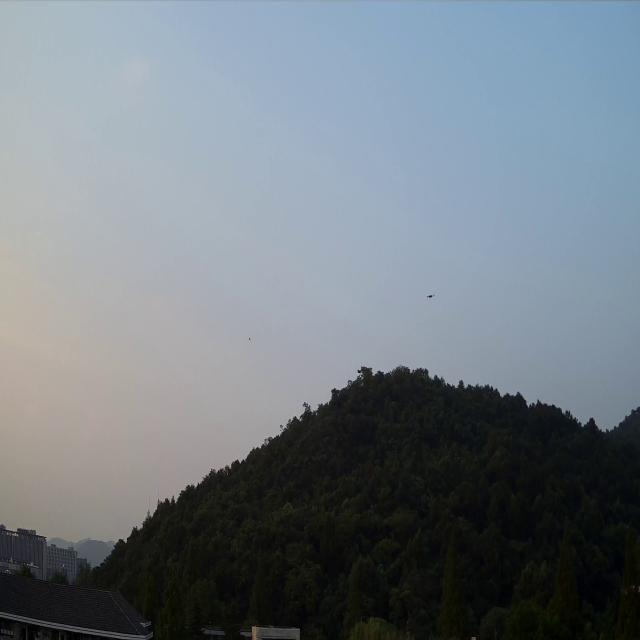UAV: (426, 293, 434, 299)
